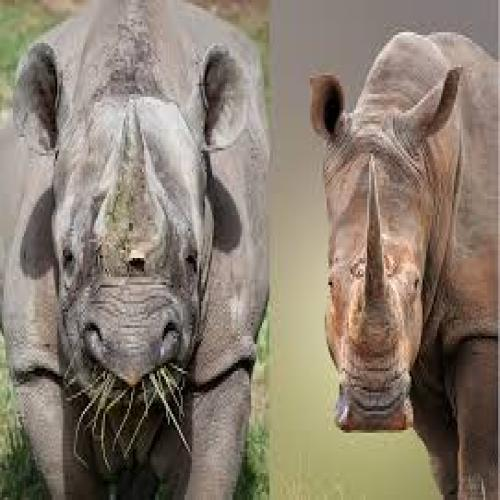rhino-endangered: (0, 2, 265, 500), (308, 30, 500, 497)
